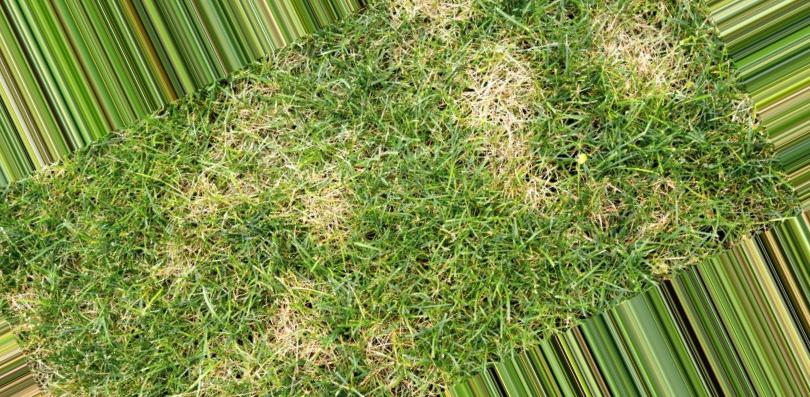patch: (263, 135, 341, 217), (476, 70, 518, 158), (614, 37, 671, 86), (272, 317, 325, 353)
